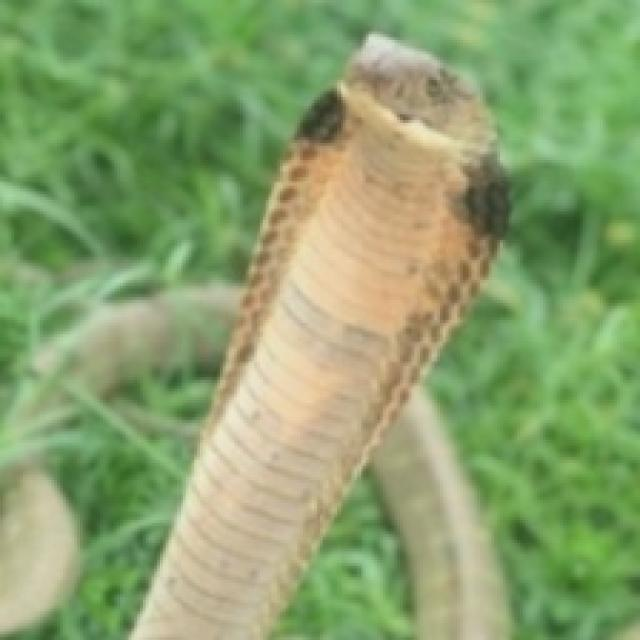king cobra: (131, 34, 506, 637), (51, 286, 234, 391), (0, 466, 74, 629)
